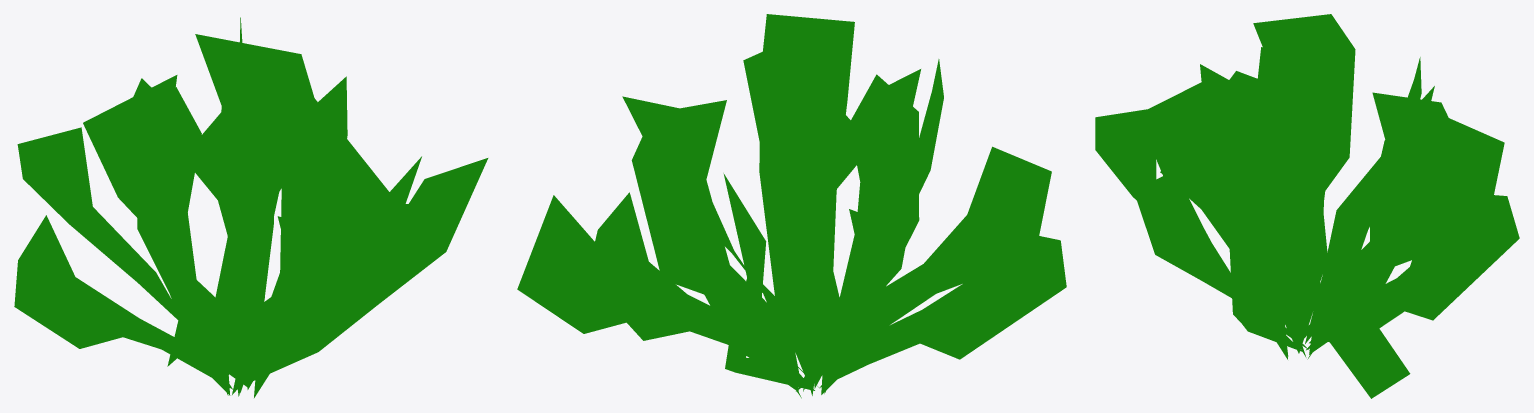
The model's file is Brittlebush_3.fbx.
3 renders of one model, left to right at view 1: azimuth 30°, elevation 25°; view 2: azimuth 150°, elevation 25°; view 3: azimuth 270°, elevation 25°, orthographic. The views are drawn at different scales.
Parts seen in each view (by area): view 1: Brittlebush_3; view 2: Brittlebush_3; view 3: Brittlebush_3.
Part boxes in pixels (x1,y1,x2,y2): Brittlebush_3: (14,17,488,397); Brittlebush_3: (517,14,1066,398); Brittlebush_3: (1095,14,1519,398).
Size of the model in its own units: 132 by 92.53 by 113.
